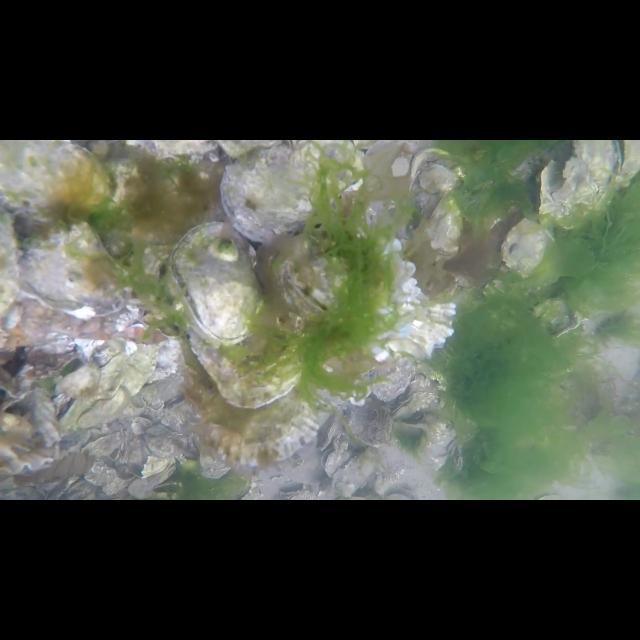Oyster-Closed: (274, 228, 456, 362), (192, 348, 320, 464), (186, 296, 306, 410), (15, 222, 130, 316), (0, 139, 114, 218), (61, 342, 156, 428), (538, 140, 614, 222), (0, 432, 58, 478), (500, 220, 550, 272), (347, 393, 393, 447), (408, 147, 460, 193), (426, 192, 462, 256), (368, 352, 412, 403), (331, 448, 375, 496), (196, 438, 232, 480), (321, 408, 342, 450)
Oyster-Open: (219, 140, 363, 246), (170, 222, 258, 344), (613, 140, 640, 187), (388, 390, 424, 420), (318, 447, 350, 477), (394, 413, 426, 431)
